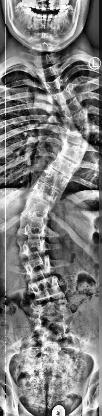Vertebrae: (31, 298, 78, 320), (20, 255, 58, 277), (27, 276, 67, 296), (31, 181, 63, 205), (33, 318, 71, 338), (23, 196, 53, 220), (54, 152, 80, 178), (44, 168, 72, 192), (15, 238, 52, 256), (59, 128, 95, 146), (58, 110, 92, 129), (56, 99, 88, 119), (61, 141, 89, 162), (20, 218, 50, 236), (44, 76, 70, 96), (52, 86, 76, 106), (38, 66, 64, 82)
